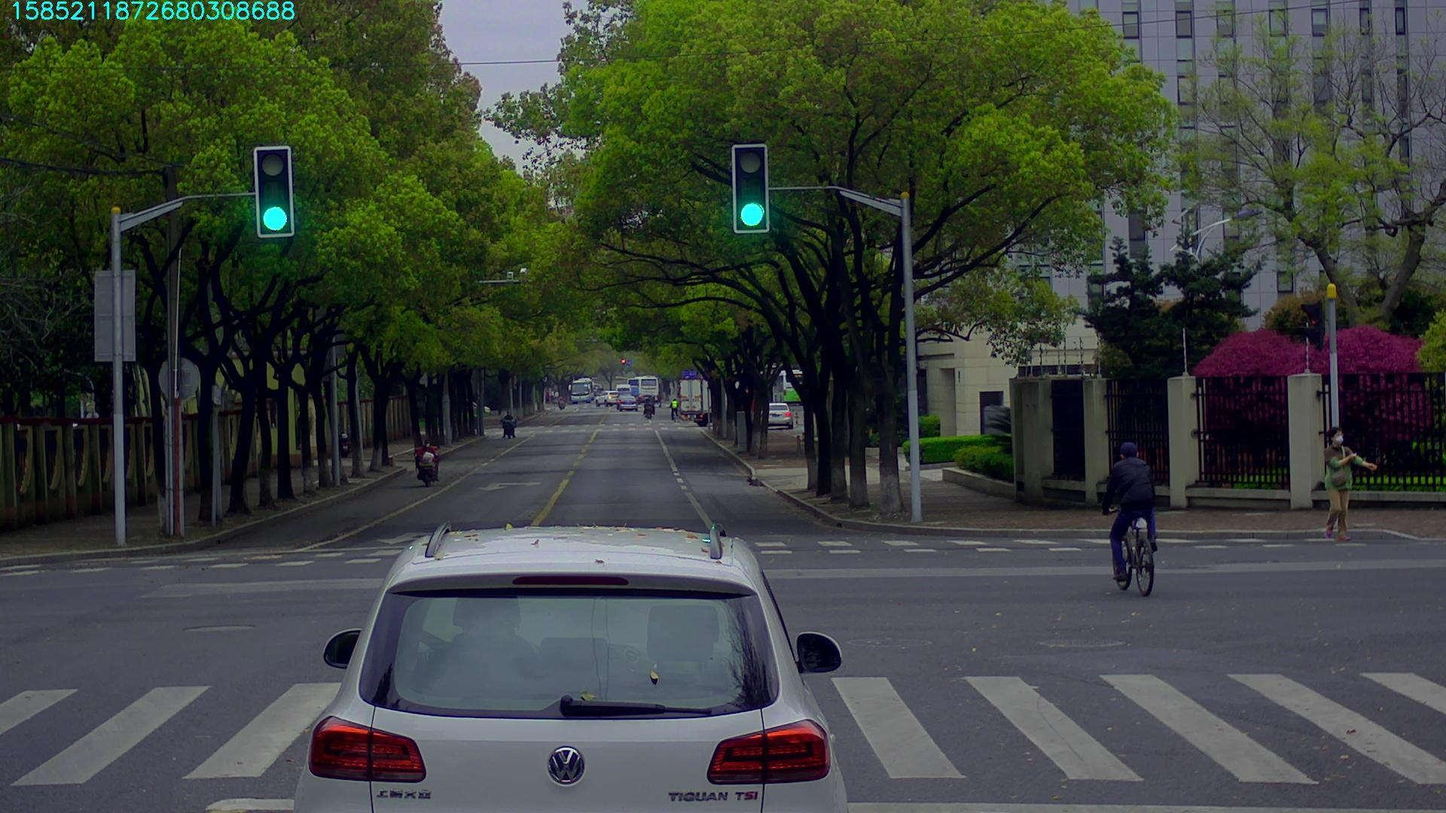green: (255, 148, 291, 234), (733, 145, 767, 232)
